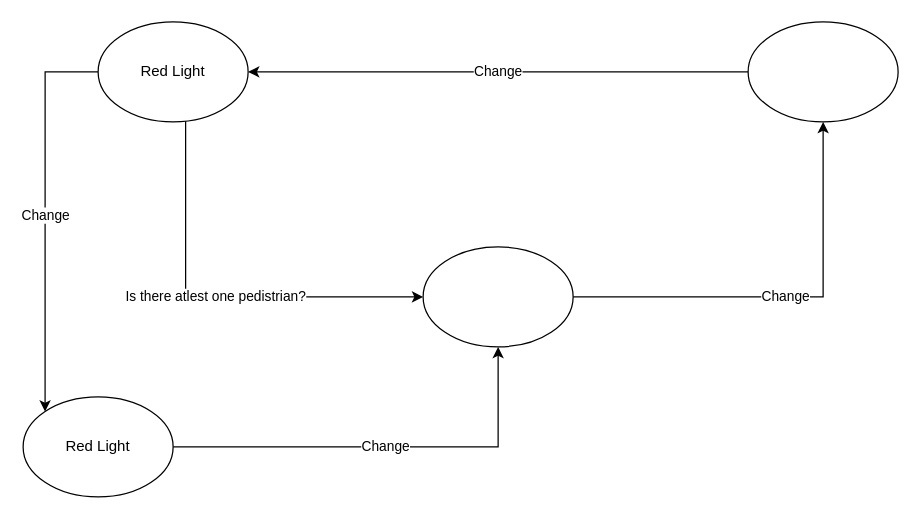
Some shapes in this 921 by 519 pixel diagram are drawn without their labels. Here are the shapes that lost their labels. From the top down, the box of each, then its label:
(747, 21, 898, 122): Yellow Light
(422, 246, 573, 347): Green Light
